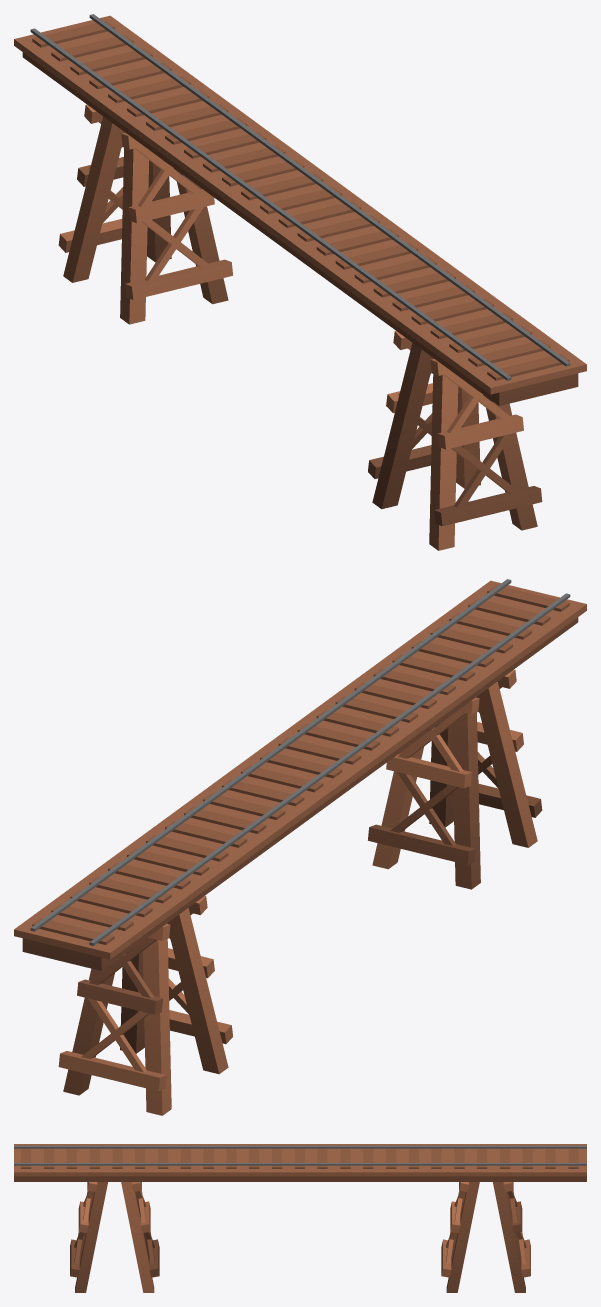
The model's file is Bridge2.glb.
3 renders of one model, top to bottom at view 1: azimuth 30°, elevation 25°; view 2: azimuth 150°, elevation 25°; view 3: azimuth 270°, elevation 25°, orthographic. The views are drawn at different scales.
Parts seen in each view (by area): view 1: bridge, railway; view 2: bridge, railway; view 3: bridge, railway.
Boxes of the visible parts, x1,y1,x2,y2 form: bridge: (14, 15, 586, 550); railway: (30, 14, 570, 380); bridge: (14, 580, 586, 1115); railway: (30, 579, 570, 945); bridge: (14, 1144, 586, 1292); railway: (14, 1145, 586, 1168).
Size of the model in its own units: 5.45 by 10.69 by 45.
Materials: 2 (2 with a texture image).
